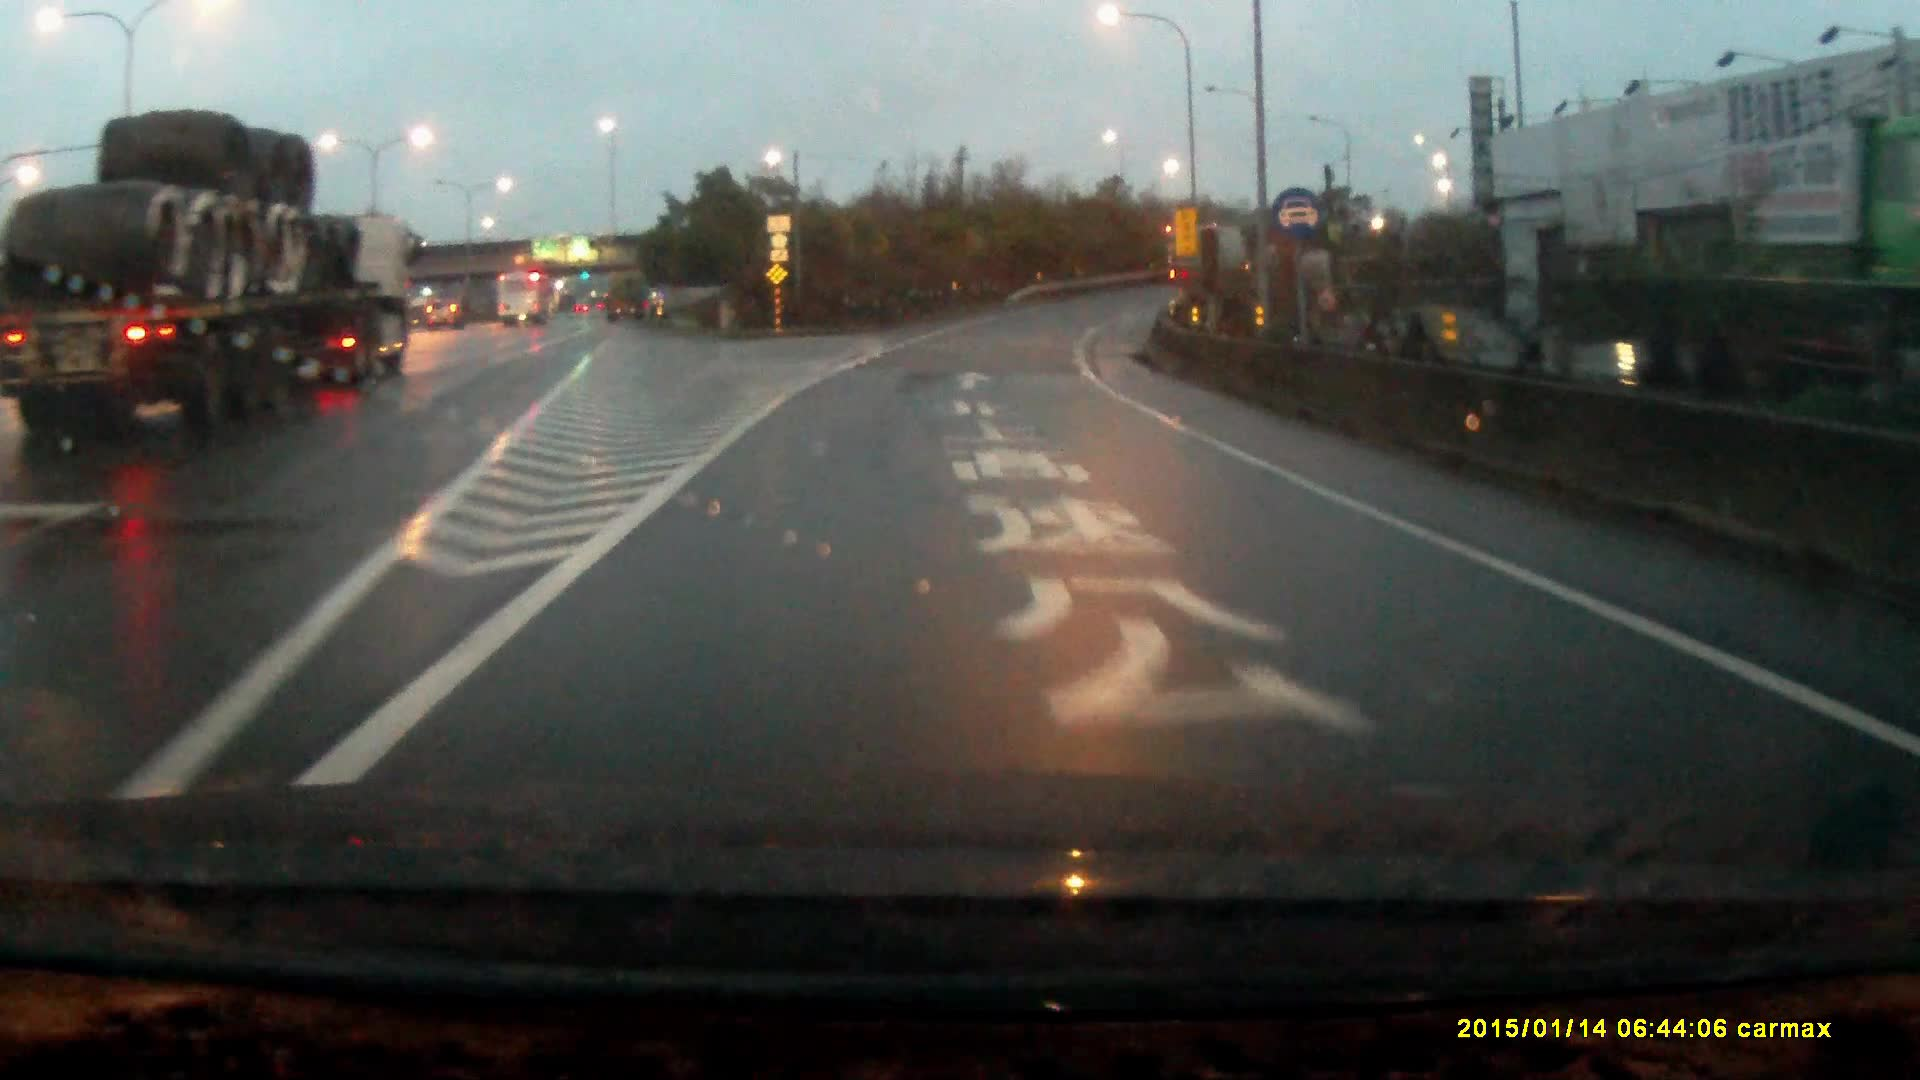vehicle: (16, 111, 414, 433), (497, 274, 556, 330), (426, 298, 465, 334)
